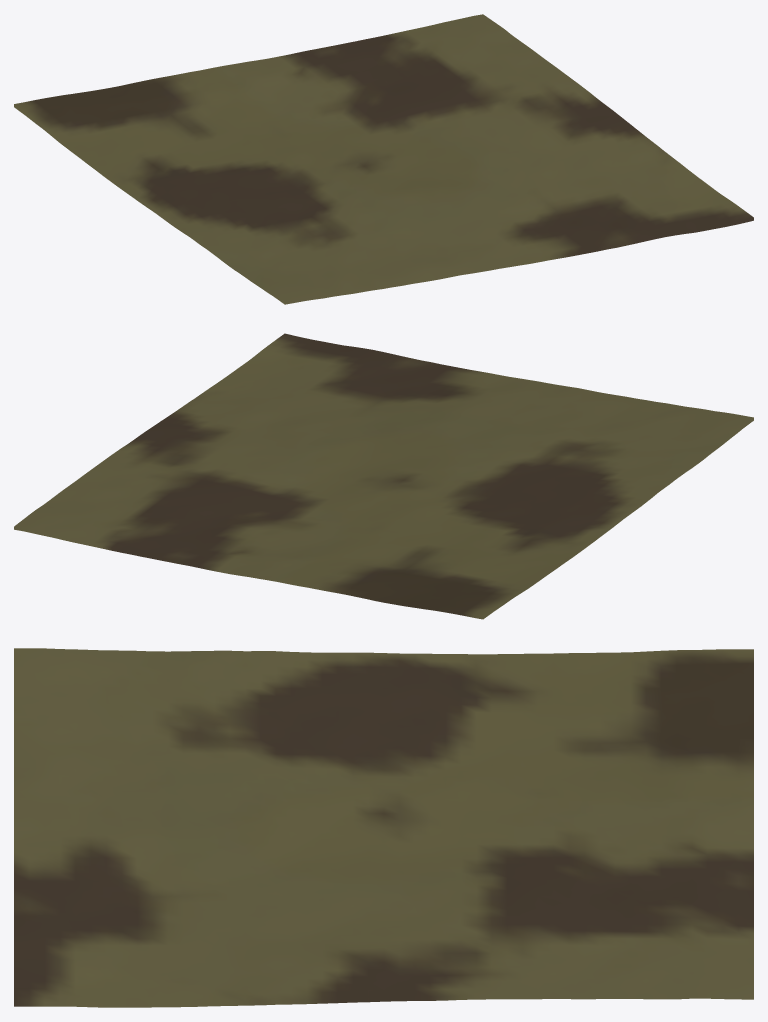
The model's file is land_m_00_07.glb.
3 views of the same model, one above another, from view 1: azimuth 30°, elevation 25°; view 2: azimuth 150°, elevation 25°; view 3: azimuth 270°, elevation 25° (orthographic). The views are drawn at different scales.
Parts seen in each view (by area): view 1: land_m_00_07; view 2: land_m_00_07; view 3: land_m_00_07.
Part boxes in pixels (x1,y1,x2,y2): land_m_00_07: (14, 14, 753, 304); land_m_00_07: (14, 333, 753, 619); land_m_00_07: (14, 648, 753, 1007).
Bounding box in the file's own units: 960 × 67.08 × 960.
